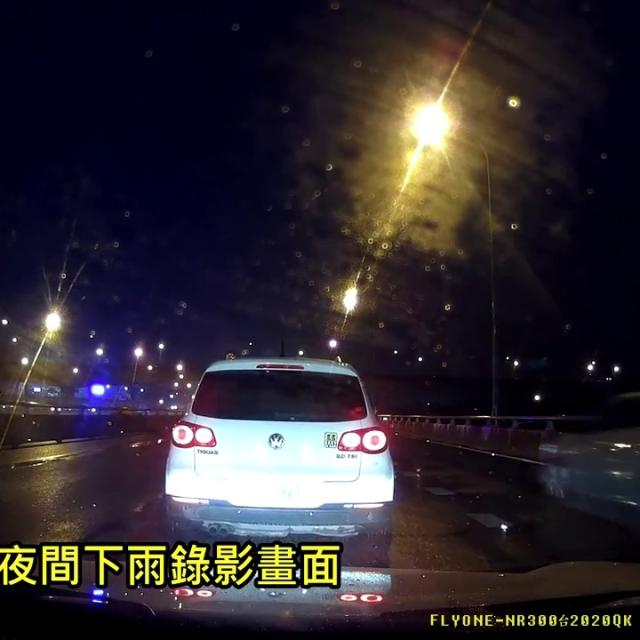Car: (161, 352, 395, 557)
